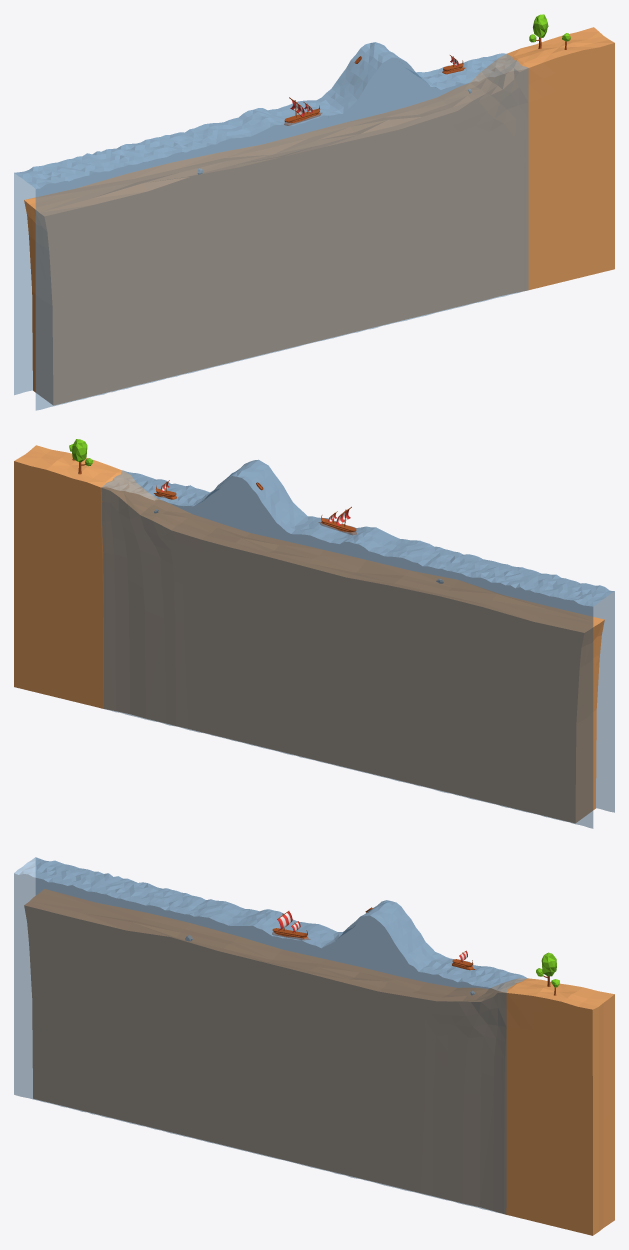
The model's file is wave.fbx.
The picture shows the model from 3 angles, top to bottom: view 1: azimuth 30°, elevation 25°; view 2: azimuth 150°, elevation 25°; view 3: azimuth 330°, elevation 25°; orthographic projection.
Parts seen in each view (by area): view 1: Land, Water; view 2: Land, Water; view 3: Land, Water.
Part boxes in pixels (left/top/right/bottom): Land: left=24, top=27, right=614, bottom=405; Water: left=14, top=42, right=528, bottom=410; Land: left=14, top=445, right=604, bottom=823; Water: left=101, top=459, right=614, bottom=828; Land: left=24, top=889, right=614, bottom=1235; Water: left=14, top=857, right=527, bottom=1214.
Size of the model in its own units: 9305 by 632 by 4113.
